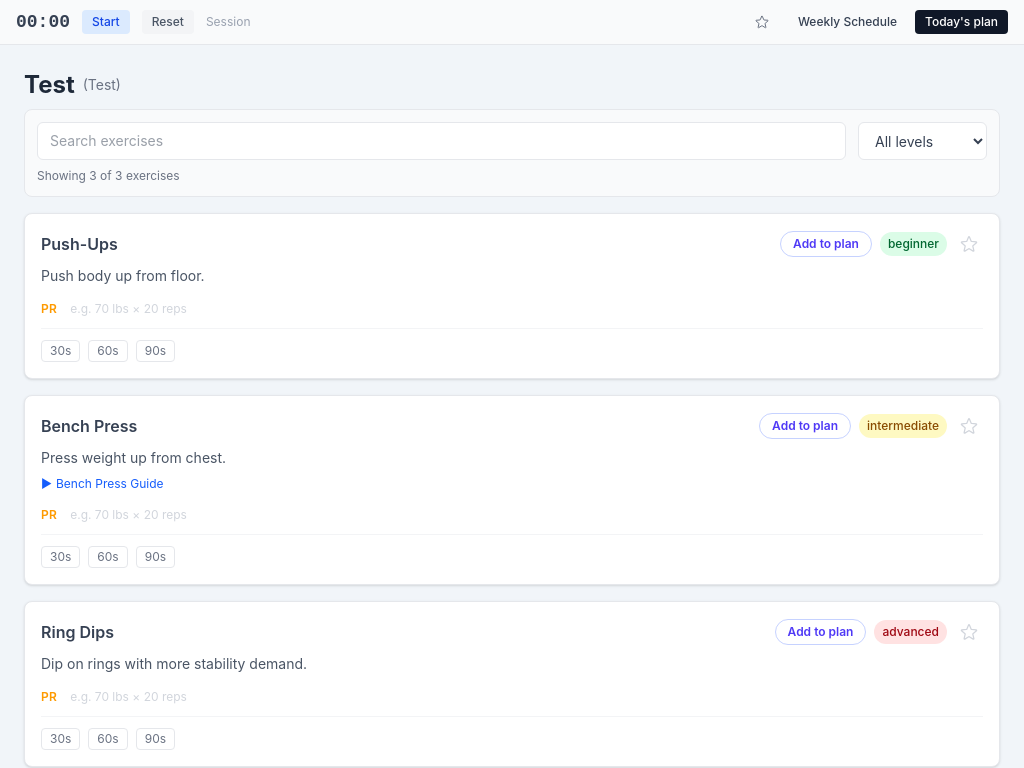
it: ExercisePanel › filters exercises by difficulty
Select "Beginner" in the dropdown: (922, 141) [858,122,987,160]
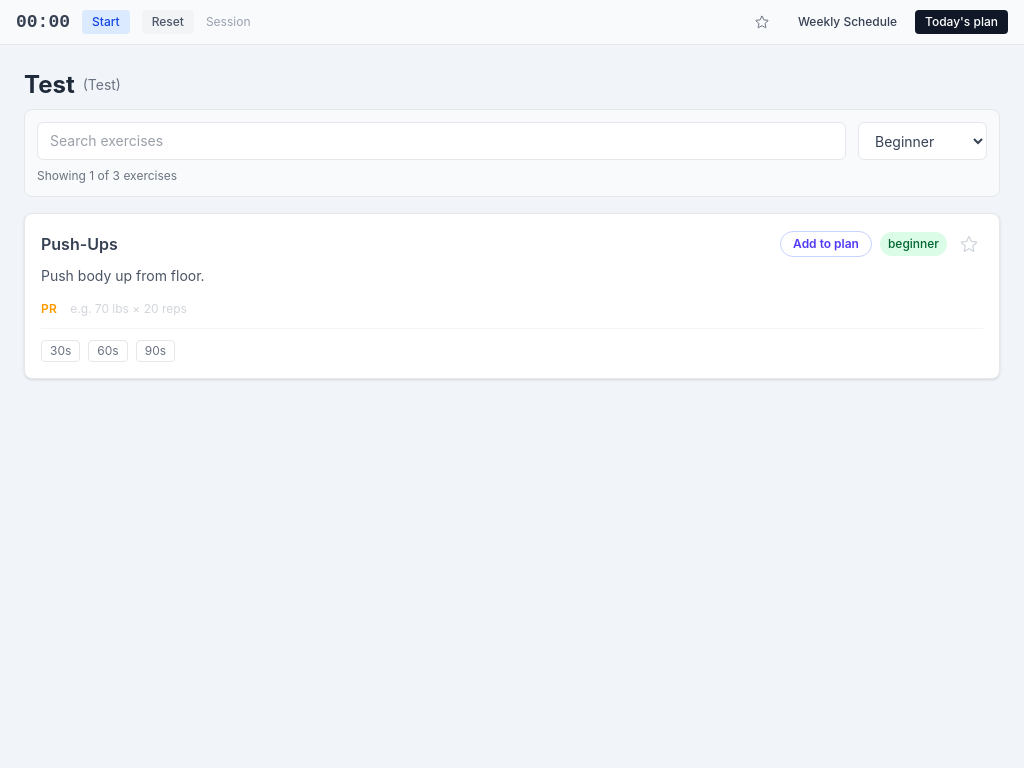
Expected: the text "Push-Ups" is shown, [41,232,118,256]
Now the text "Bench Press" is gone
